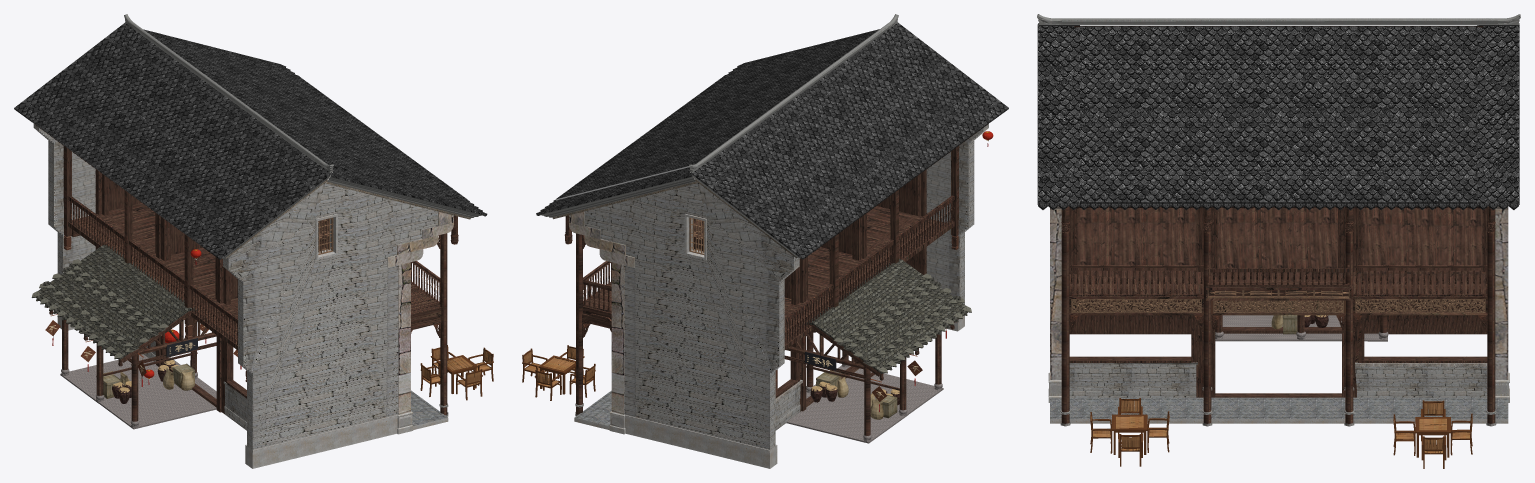
3 views of the same model, side by side, from view 1: azimuth 30°, elevation 25°; view 2: azimuth 150°, elevation 25°; view 3: azimuth 270°, elevation 25° (orthographic). The views are drawn at different scales.
Visible parts, largest first — view 1: building8.001; view 2: building8.001; view 3: building8.001.
Part boxes in pixels (x1,y1,x2,y2): building8.001: (14, 14, 493, 468); building8.001: (522, 14, 1008, 468); building8.001: (1037, 14, 1520, 468).
Size of the model in its own units: 17.59 by 14.02 by 18.12.
Materials: 33 (28 with a texture image).
